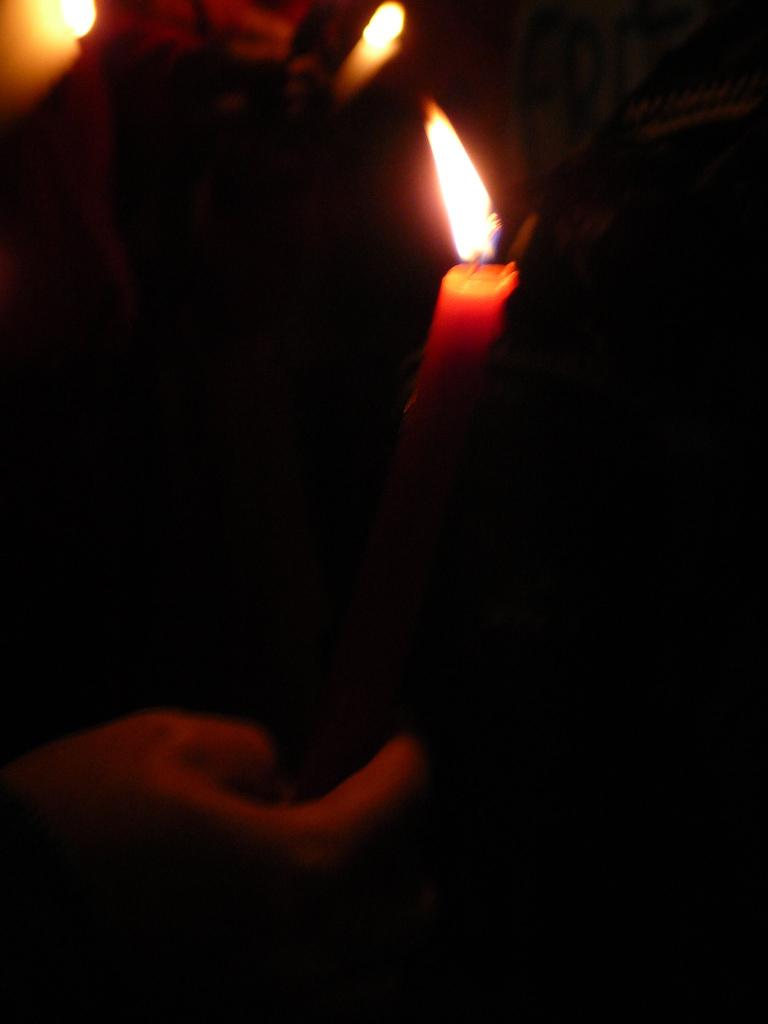fire: (440, 145, 500, 255)
